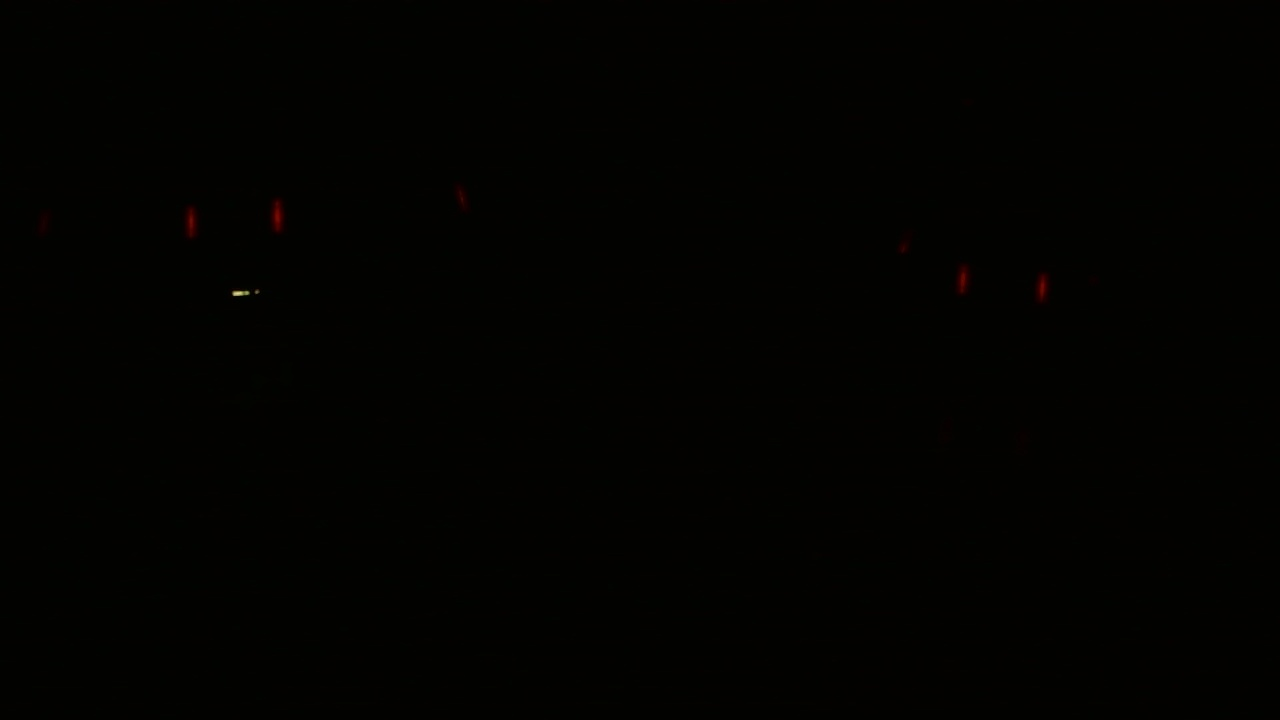pair1: (955, 262, 1049, 303), (185, 199, 284, 236)
